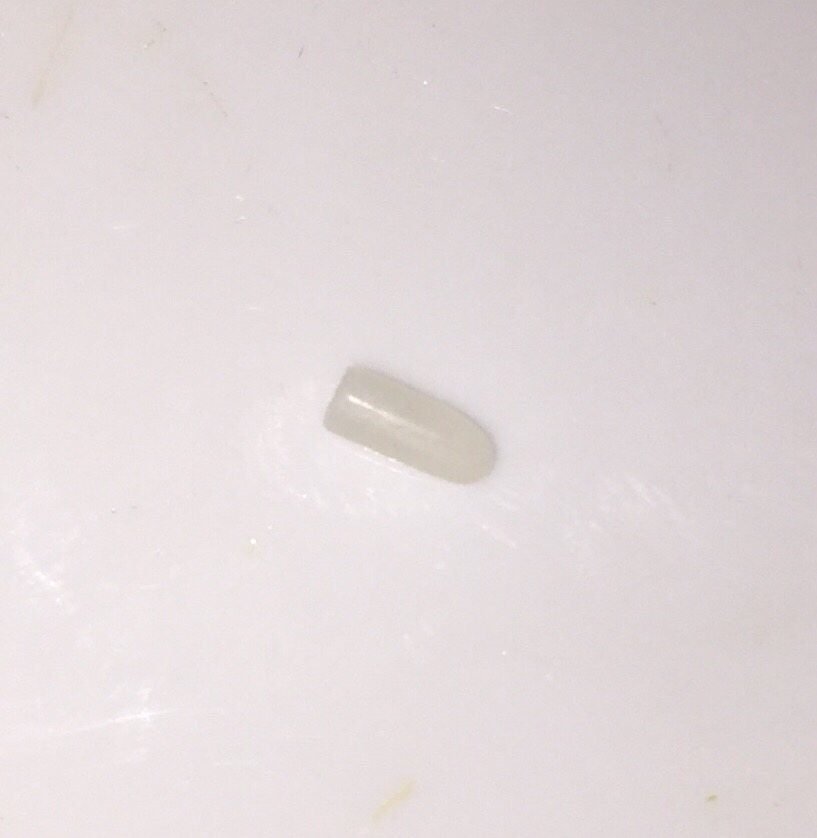Gao Ngoc Troi: (315, 348, 514, 499)
